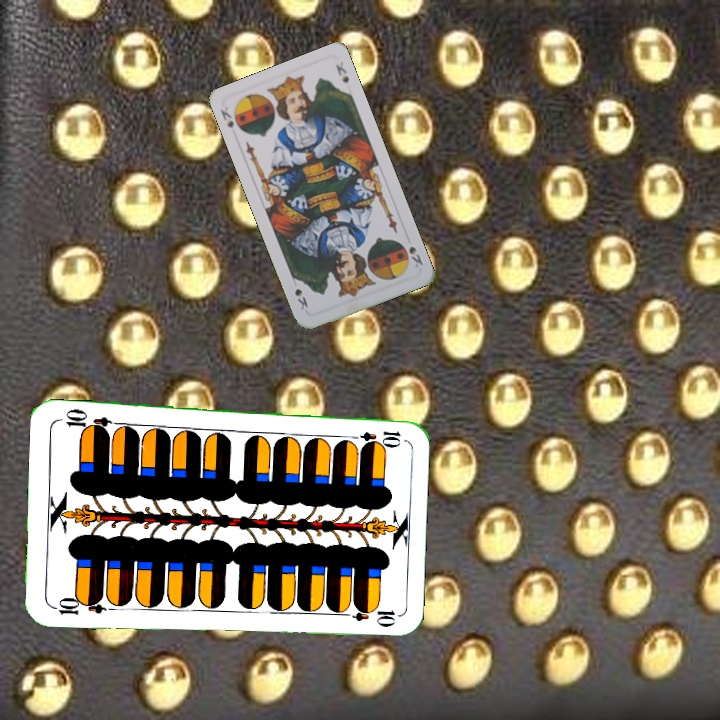E10: (48, 593, 107, 618), (344, 427, 403, 446)
SK: (216, 103, 245, 135), (398, 239, 425, 270)
